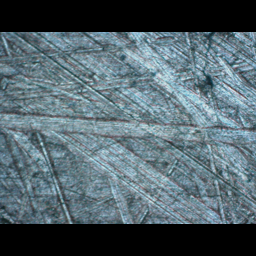d: (0, 32, 253, 151), (59, 125, 233, 221), (172, 52, 228, 114)
